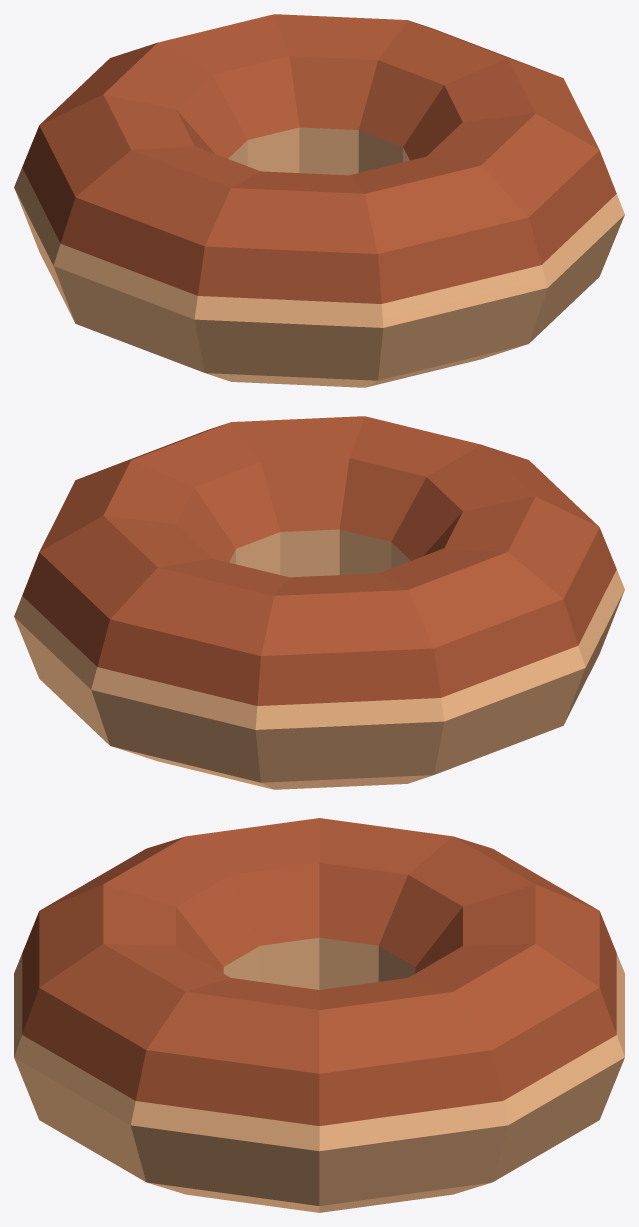
Rendered from Dounut.fbx.
The picture shows the model from 3 angles, top to bottom: view 1: azimuth 30°, elevation 25°; view 2: azimuth 150°, elevation 25°; view 3: azimuth 270°, elevation 25°; orthographic projection. The views are drawn at different scales.
Parts seen in each view (by area): view 1: Dounut; view 2: Dounut; view 3: Dounut.
Part boxes in pixels (x1,y1,x2,y2): Dounut: (14, 14, 624, 387); Dounut: (14, 416, 624, 789); Dounut: (14, 818, 624, 1212).
Size of the model in its own units: 328 by 114 by 312.
